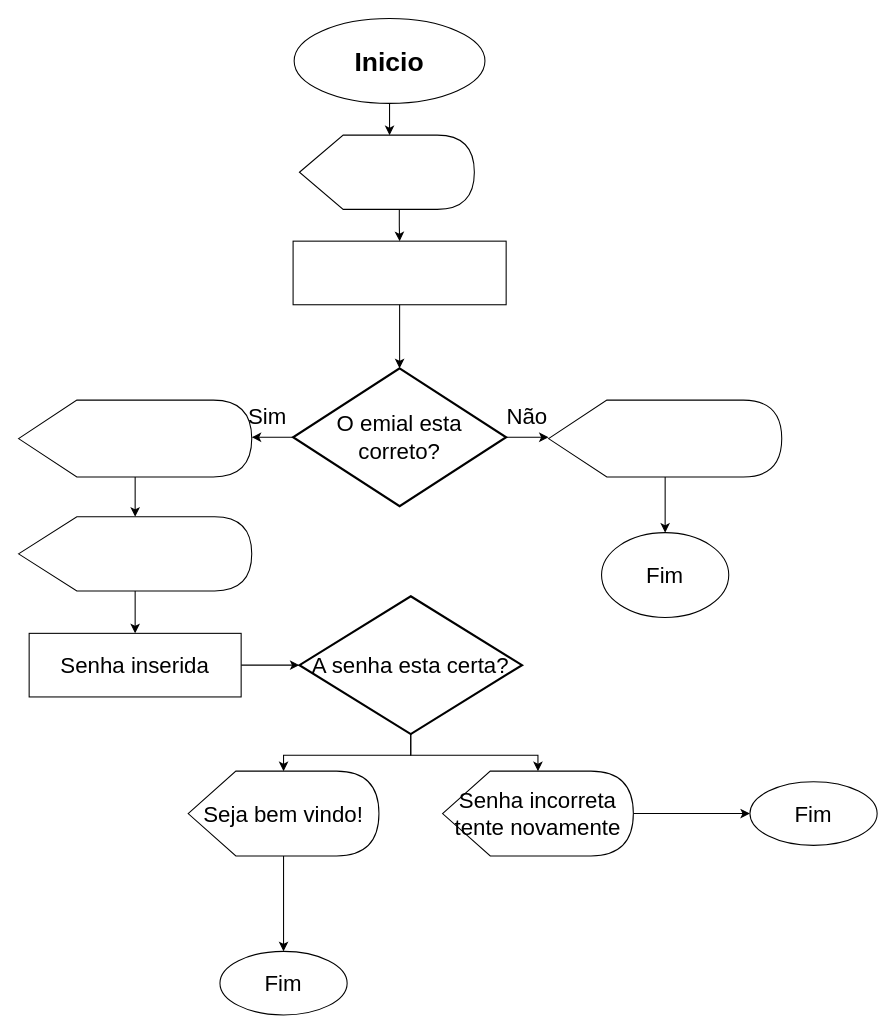
Some shapes in this 896 by 1034 pixel diagram are drawn without their labels. The shapes that lost their labels are listed below. From the top down, each one's box as (x1, y1, x2, y2) in pixels, then its label:
(298, 134, 474, 209): digite sue email
(292, 240, 506, 305): Email inserido
(17, 399, 252, 477): Email Correto ✓
(547, 399, 782, 477): Seu email esta incorreto, tente novamente
(17, 516, 252, 591): Insira a senha
